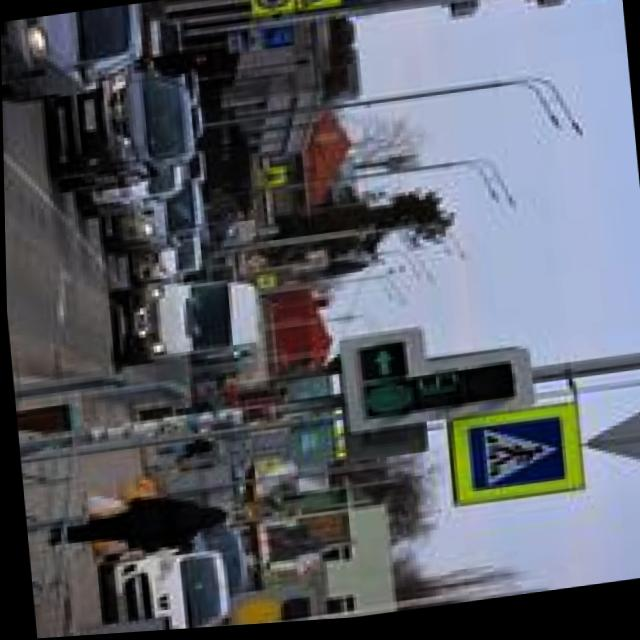green_light: (315, 341, 412, 445)
